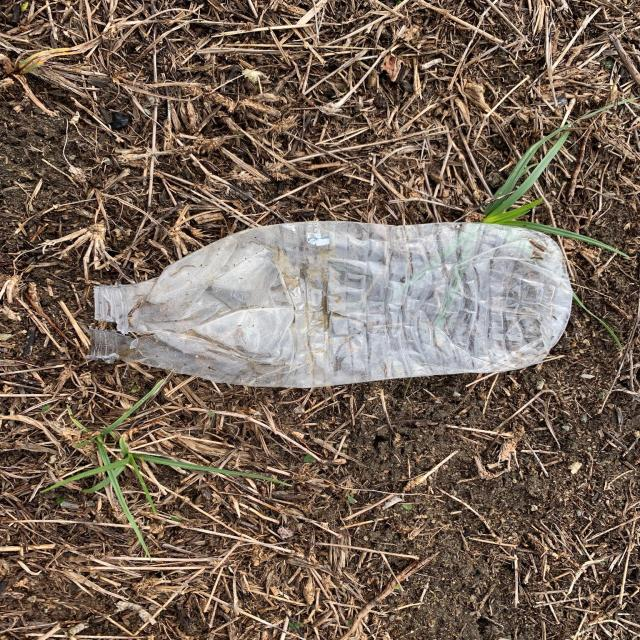litter: (90, 221, 571, 387)
